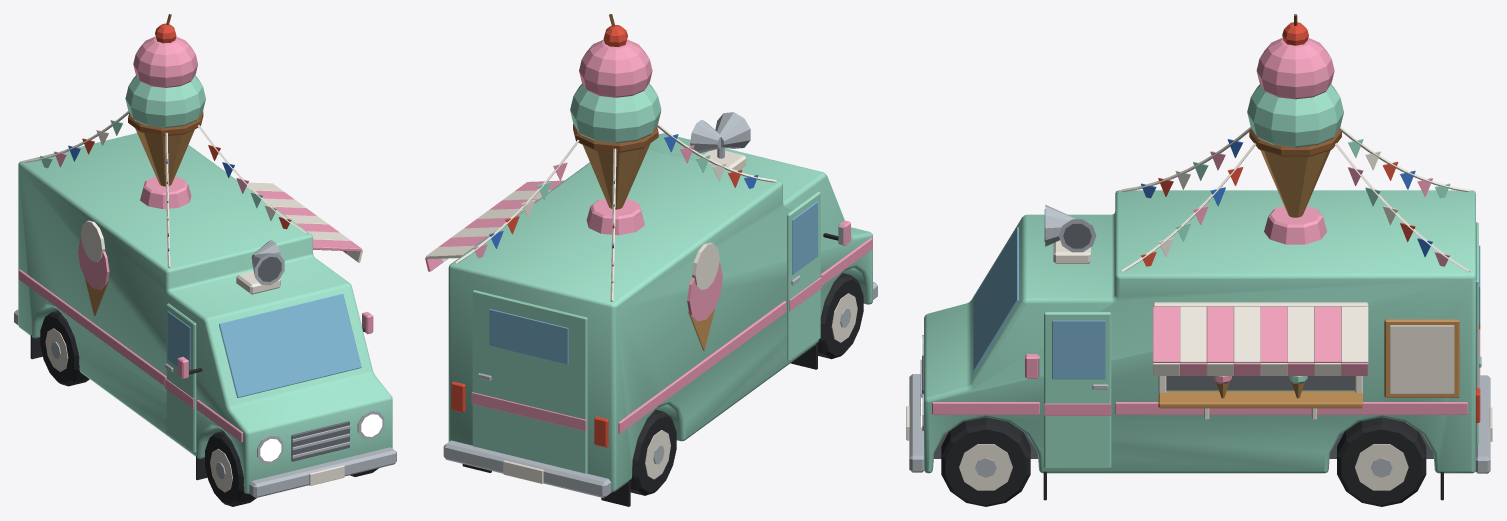
Rendered from pastel-ice-cream-truck.glb.
3 renders of one model, left to right at view 1: azimuth 30°, elevation 25°; view 2: azimuth 150°, elevation 25°; view 3: azimuth 270°, elevation 25°, orthographic. The views are drawn at different scales.
Parts seen in each view (by area): view 1: Body, Windshield, Cone_Scoop_Mint, Cone_Scoop_Pink, Door_L, Awning, Bumper_Front, Stripe_Rear_L, Wheel_FL, Cone_Waffle, Wheel_RL, Cone_Pedestal (+13 smaller); view 2: Body, Door_Back, Cone_Scoop_Mint, Cone_Scoop_Pink, Door_L, Door_Back_Window, Bumper_Rear, Awning, Stripe_Rear_L, Cone_Waffle, Wheel_RL, Wheel_FL (+14 smaller); view 3: Body, Awning, Door_R, Wheel_FR, Wheel_RR, Cone_Scoop_Mint, MenuBoard, Cone_Scoop_Pink, Counter, Windshield, Stripe_Rear_R, Door_R_Window (+17 smaller).
Boxes of the visible parts, x1,y1,x2,y2 form: Body: (18, 133, 392, 493); Windshield: (219, 294, 361, 397); Cone_Scoop_Mint: (125, 75, 205, 127); Cone_Scoop_Pink: (133, 36, 197, 87); Door_L: (166, 303, 196, 452); Awning: (246, 182, 362, 262); Bumper_Front: (249, 447, 396, 497); Stripe_Rear_L: (18, 269, 166, 386); Wheel_FL: (205, 431, 256, 506); Cone_Waffle: (135, 128, 194, 186); Wheel_RL: (40, 310, 89, 386); Cone_Pedestal: (140, 176, 191, 209); Body: (448, 133, 872, 492); Door_Back: (472, 290, 587, 473); Cone_Scoop_Mint: (570, 83, 661, 143); Cone_Scoop_Pink: (579, 39, 652, 97); Door_L: (787, 191, 820, 361); Door_Back_Window: (489, 309, 568, 364); Bumper_Rear: (443, 440, 611, 498); Awning: (425, 180, 564, 271); Stripe_Rear_L: (618, 301, 786, 433); Cone_Waffle: (583, 143, 650, 209); Wheel_RL: (630, 410, 676, 495); Wheel_FL: (818, 273, 863, 359); Body: (924, 190, 1475, 473); Awning: (1153, 306, 1368, 375); Door_R: (1044, 312, 1111, 468); Wheel_FR: (941, 417, 1030, 506); Wheel_RR: (1337, 417, 1426, 506); Cone_Scoop_Mint: (1247, 84, 1343, 147); MenuBoard: (1390, 325, 1454, 393); Cone_Scoop_Pink: (1256, 38, 1334, 99); Counter: (1158, 391, 1362, 408); Windshield: (973, 227, 1018, 372); Stripe_Rear_R: (1115, 402, 1467, 414); Door_R_Window: (1052, 320, 1105, 379).
Size of the model in its own units: 12.05 by 18.61 by 21.78.
